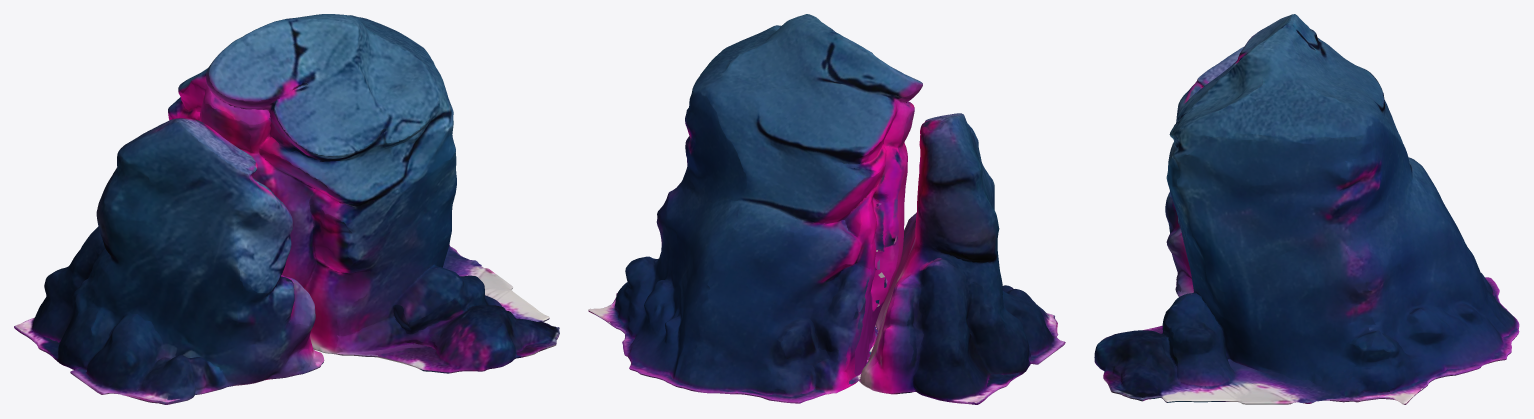
Rendered from shore-stone-13-generated-2026-05-17T20-28-41-090Z.high.glb.
3 views of the same model, side by side, from view 1: azimuth 30°, elevation 25°; view 2: azimuth 150°, elevation 25°; view 3: azimuth 270°, elevation 25° (orthographic). The views are drawn at different scales.
Parts seen in each view (by area): view 1: temp_mesh.ply; view 2: temp_mesh.ply; view 3: temp_mesh.ply.
Boxes of the visible parts, x1=… form: temp_mesh.ply: x1=14, y1=14, x2=559, y2=404; temp_mesh.ply: x1=588, y1=14, x2=1065, y2=404; temp_mesh.ply: x1=1094, y1=14, x2=1519, y2=404.
Size of the model in its own units: 1.97 by 1.36 by 1.82.
1 material, 1 textured.
